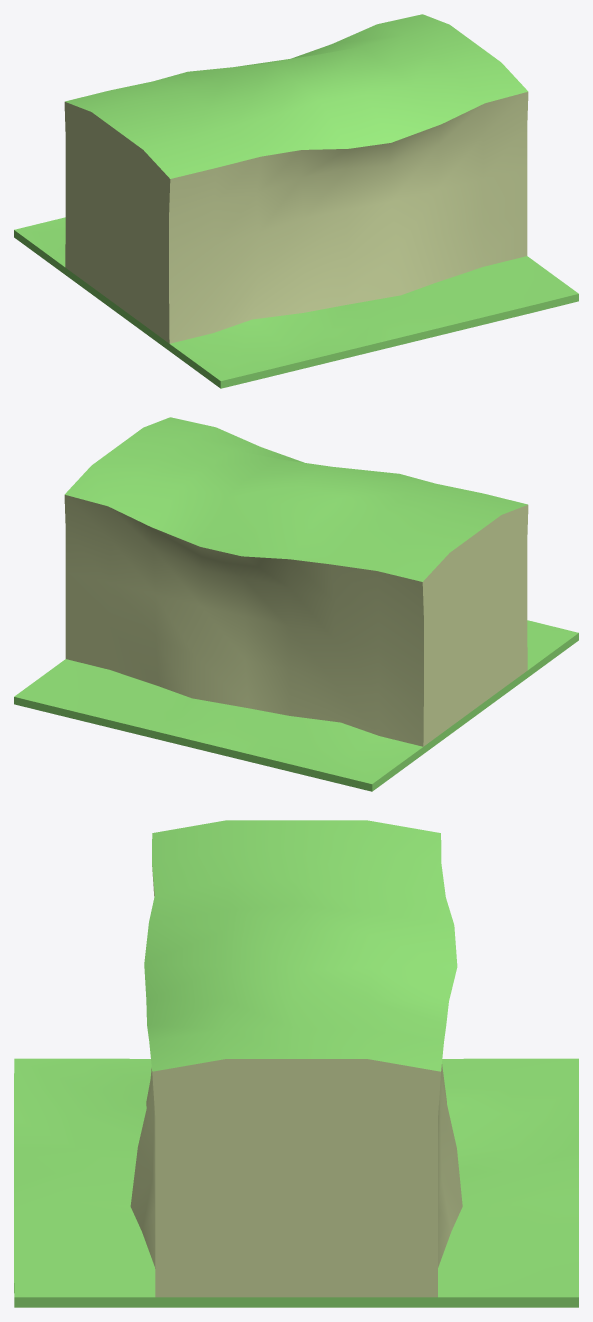
Rendered from wall_slim_extend_1.glb.
3 views of the same model, one above another, from view 1: azimuth 30°, elevation 25°; view 2: azimuth 150°, elevation 25°; view 3: azimuth 270°, elevation 25° (orthographic). The views are drawn at different scales.
Visible parts, largest first — view 1: wall_slim_extend_1; view 2: wall_slim_extend_1; view 3: wall_slim_extend_1.
Part boxes in pixels (<box>): wall_slim_extend_1: <box>14,14,578,388</box>; wall_slim_extend_1: <box>14,417,578,791</box>; wall_slim_extend_1: <box>14,820,578,1307</box>.
Bounding box in the file's own units: 2 × 1 × 2.
